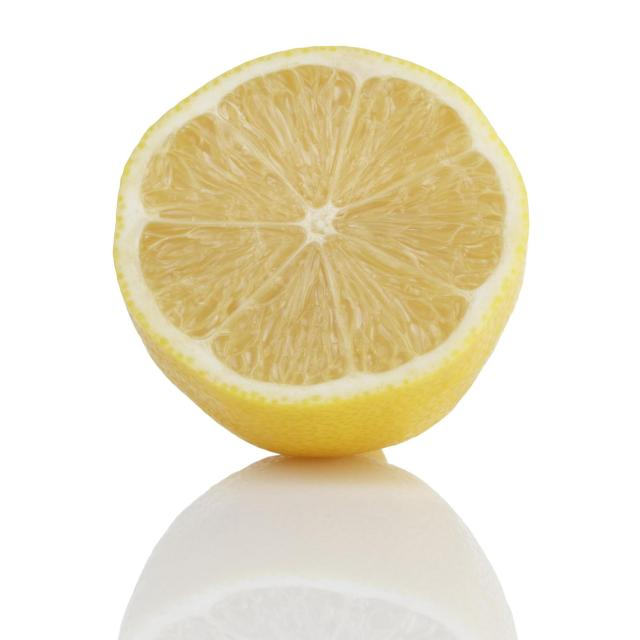lemon: (108, 36, 535, 465)
